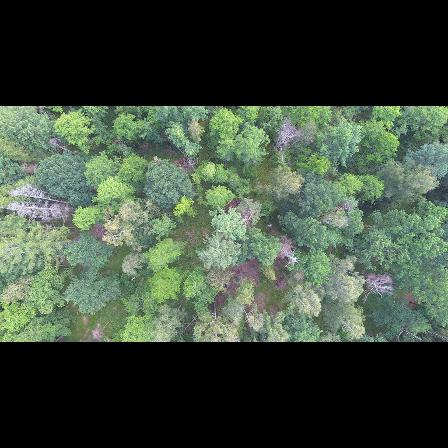Dead: (346, 268, 395, 299), (8, 184, 71, 205), (276, 114, 298, 160), (0, 205, 51, 221), (8, 204, 77, 215), (273, 238, 300, 265)
